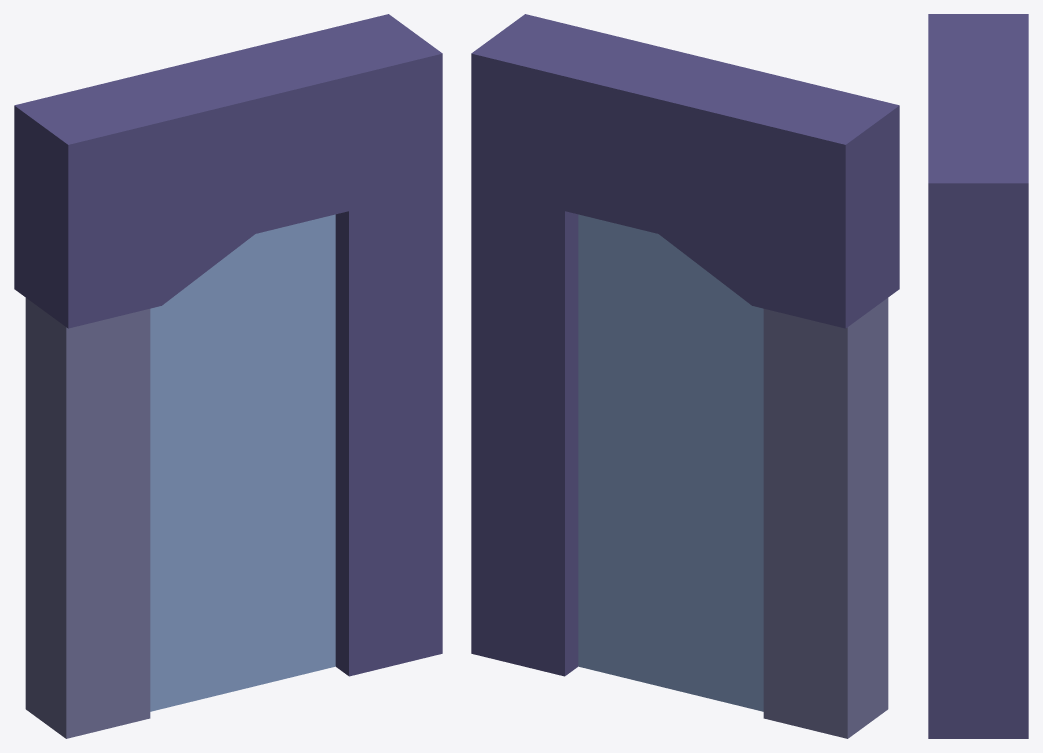
File: door.gltf
The picture shows the model from 3 angles, left to right: view 1: azimuth 30°, elevation 25°; view 2: azimuth 150°, elevation 25°; view 3: azimuth 270°, elevation 25°; orthographic projection. The views are drawn at different scales.
Visible parts, largest first — view 1: door_shape, pCube20, pCube19; view 2: door_shape, pCube20, pCube19; view 3: door_shape.
Part boxes in pixels (bbox=[...]): door_shape: bbox=[14, 14, 442, 676]; pCube20: bbox=[150, 214, 335, 711]; pCube19: bbox=[25, 298, 150, 738]; door_shape: bbox=[471, 14, 899, 676]; pCube20: bbox=[578, 214, 763, 711]; pCube19: bbox=[763, 298, 888, 738]; door_shape: bbox=[928, 14, 1028, 738].
Bounding box in the file's own units: 8 × 12.25 × 2.
